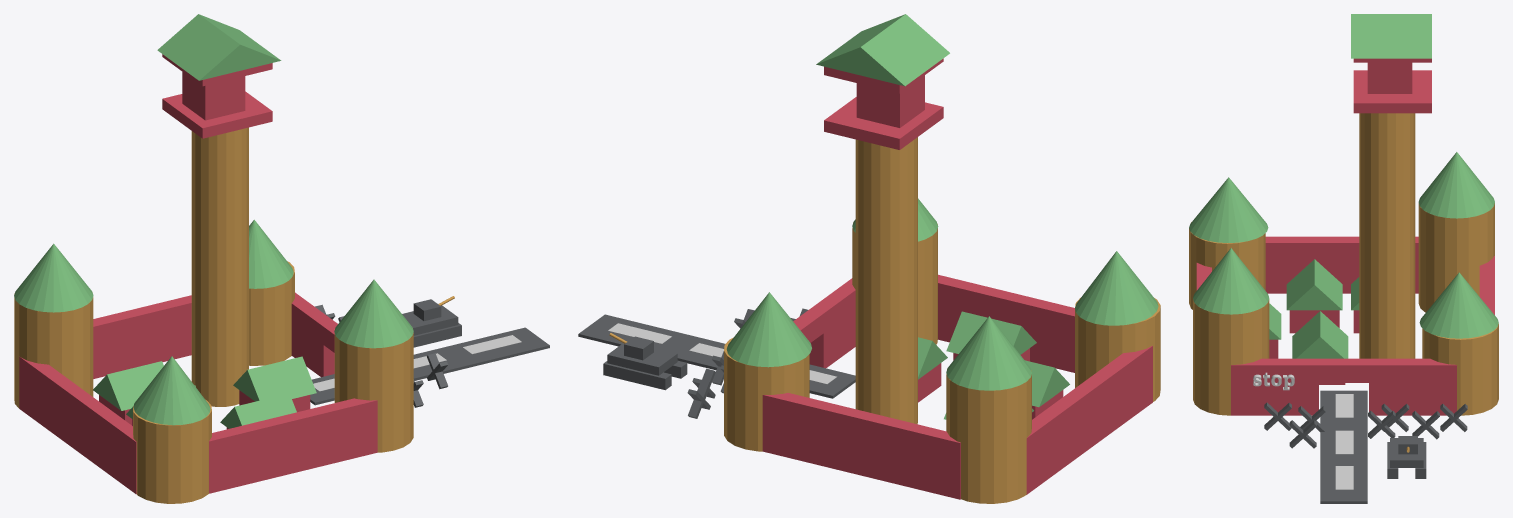
The model's file is jasonhero.glb.
The picture shows the model from 3 angles, left to right: view 1: azimuth 30°, elevation 25°; view 2: azimuth 150°, elevation 25°; view 3: azimuth 270°, elevation 25°; orthographic projection. The views are drawn at different scales.
Visible parts, largest first — view 1: Mesh_Mesh_head_geo.001_lambert2SG.001; view 2: Mesh_Mesh_head_geo.001_lambert2SG.001; view 3: Mesh_Mesh_head_geo.001_lambert2SG.001.
Part boxes in pixels (x1=…): Mesh_Mesh_head_geo.001_lambert2SG.001: x1=14, y1=14, x2=549, y2=503; Mesh_Mesh_head_geo.001_lambert2SG.001: x1=578, y1=14, x2=1160, y2=503; Mesh_Mesh_head_geo.001_lambert2SG.001: x1=1189, y1=14, x2=1498, y2=503.
Bounding box in the file's own units: 184 × 140 × 111.
